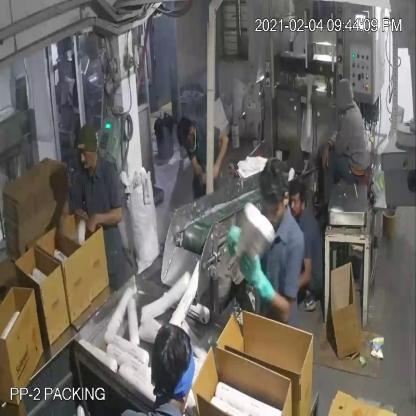glove: (236, 249, 296, 315), (220, 216, 252, 261)
no_glove: (83, 197, 133, 244), (52, 190, 84, 239), (210, 122, 232, 184), (190, 149, 210, 189)
